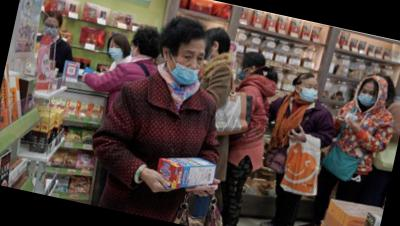mask_weared_incorrect: (165, 43, 207, 89)
with_mask: (298, 80, 322, 105), (357, 85, 381, 109), (41, 20, 62, 39), (236, 60, 253, 83), (108, 42, 124, 60)
